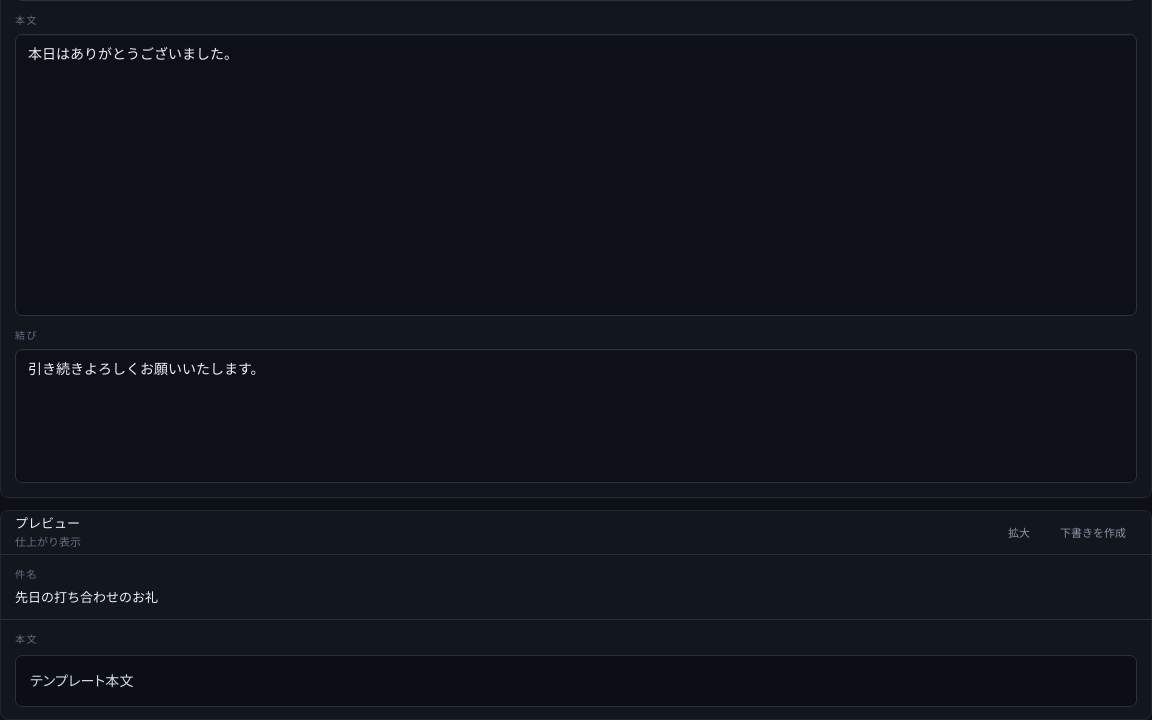
Test: template UI › connects template workspace overlay
(page scrolled)
Step 1. Click the button "拡大" → (1019, 532), box [997,520,1041,544]
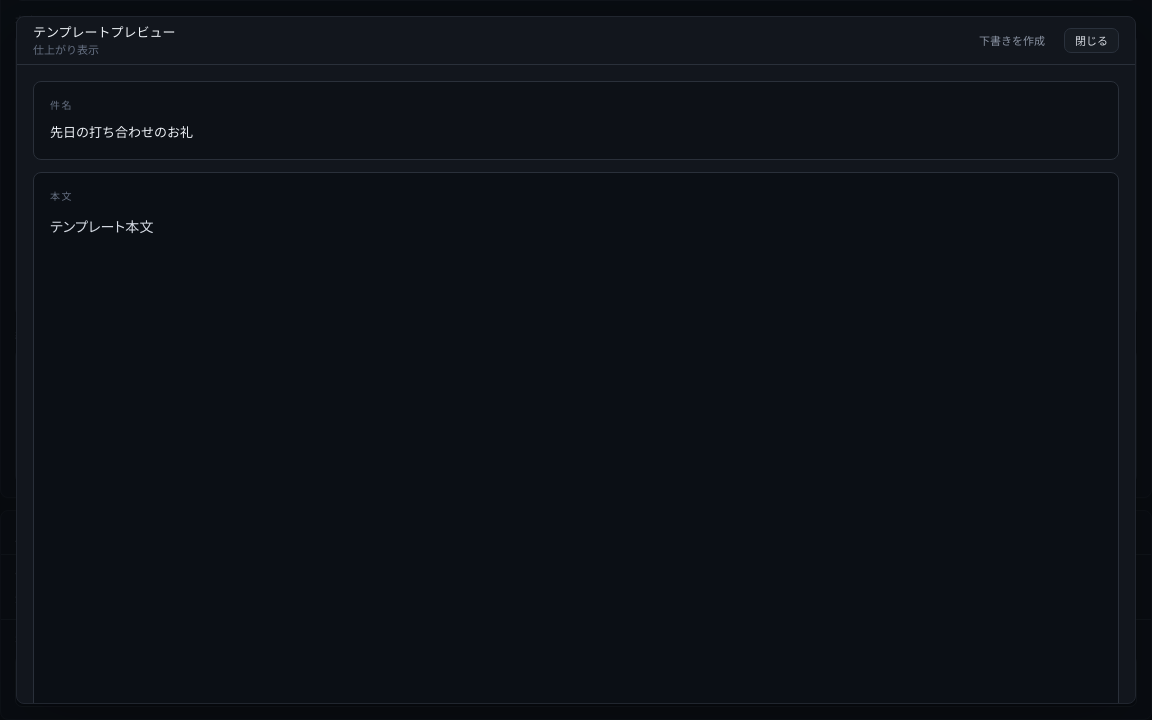
Result: the text "テンプレートプレビュー" is shown at [33,22,176,42]
